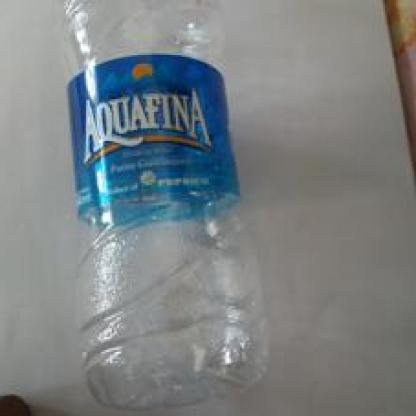bottle: (56, 0, 279, 400)
